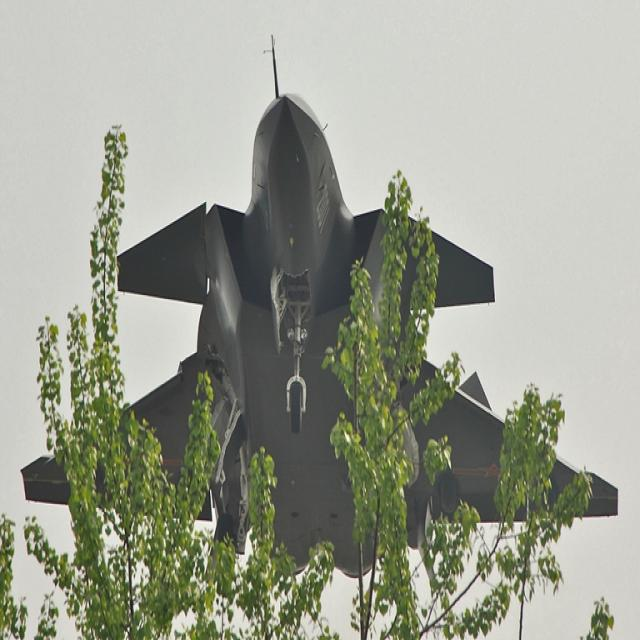MIL_Plane: (19, 32, 619, 588)
